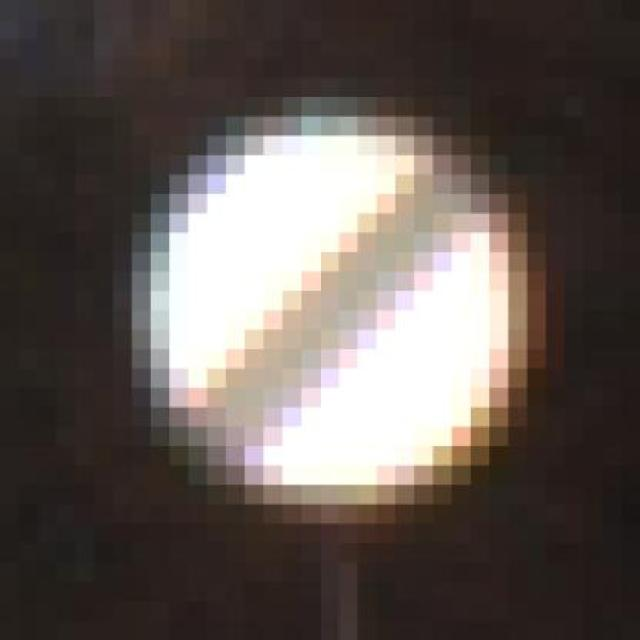End of all speed and passing limits: (112, 96, 546, 524)
